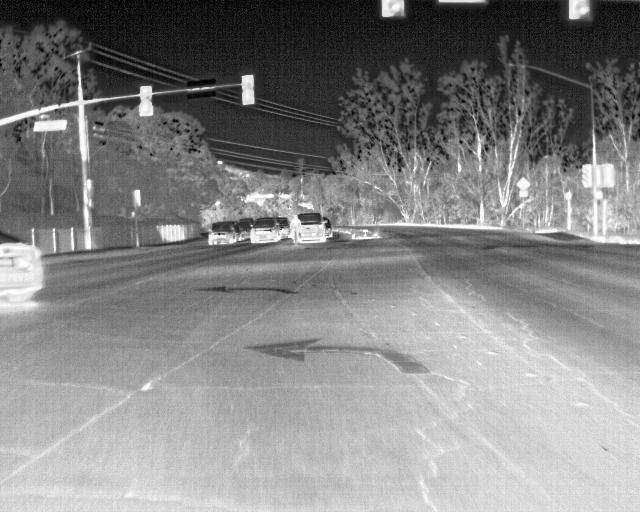car: (0, 229, 50, 304), (205, 219, 240, 248), (248, 214, 279, 244), (299, 217, 325, 243), (276, 216, 293, 237), (237, 217, 254, 238)
